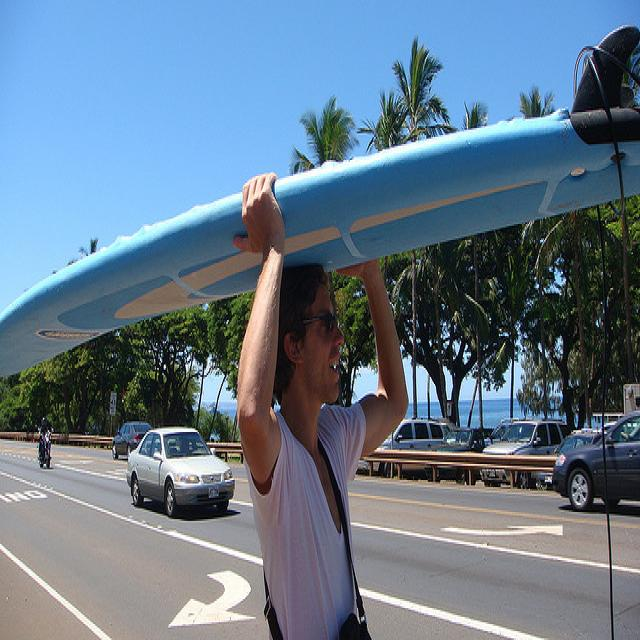motor: (37, 428, 54, 468)
